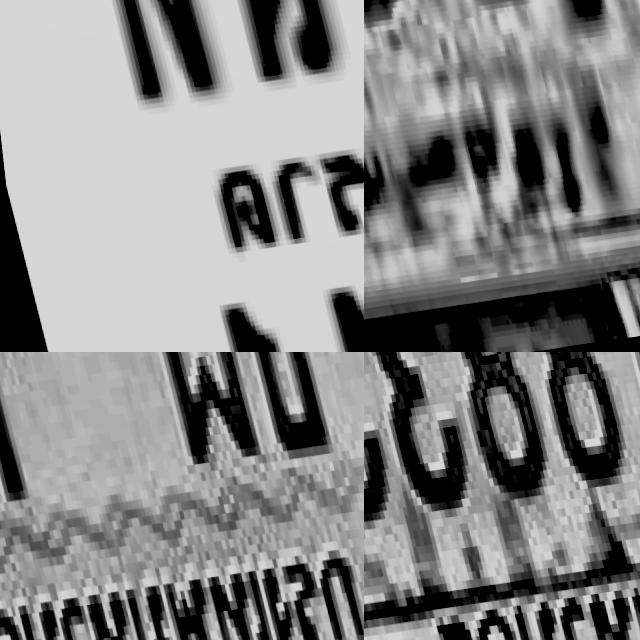license-plate: (0, 0, 364, 352), (0, 352, 364, 640), (364, 0, 640, 347), (364, 352, 640, 640)
